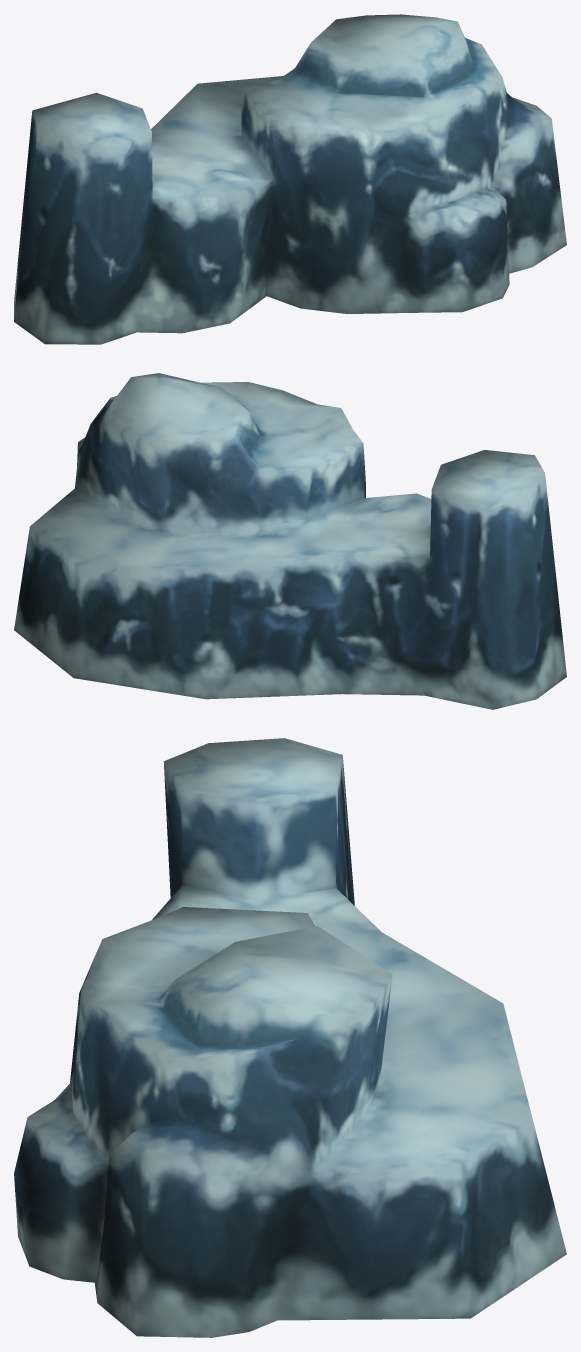
Rendered from Stage_BingYuan_ShanShi02.FBX.
The picture shows the model from 3 angles, top to bottom: view 1: azimuth 30°, elevation 25°; view 2: azimuth 150°, elevation 25°; view 3: azimuth 270°, elevation 25°; orthographic projection. The views are drawn at different scales.
Parts seen in each view (by area): view 1: Stage_BingYuan_ShanShi02; view 2: Stage_BingYuan_ShanShi02; view 3: Stage_BingYuan_ShanShi02.
Boxes of the visible parts, x1,y1,x2,y2 form: Stage_BingYuan_ShanShi02: (14, 14, 566, 344); Stage_BingYuan_ShanShi02: (14, 373, 566, 709); Stage_BingYuan_ShanShi02: (14, 738, 566, 1337).
Size of the model in its own units: 1591 by 653 by 1104.
